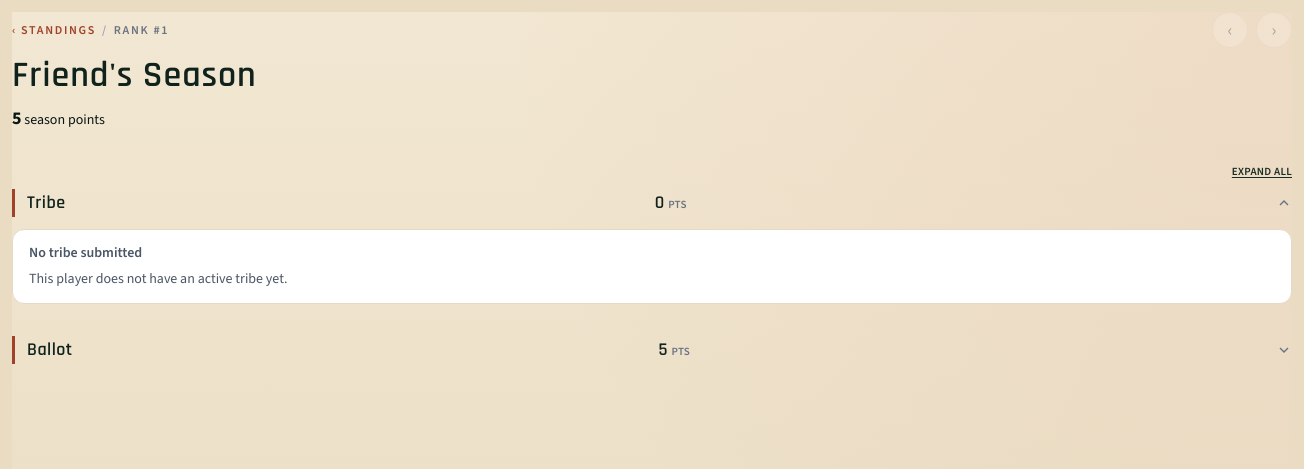
Test case: TeamPage › says vote results are missing instead of drawing every vote as a miss (#823)
The image size is (1304, 469).
Click the button "Expand all" at (1262, 172), box x1=1232 y1=164 x2=1292 y2=180
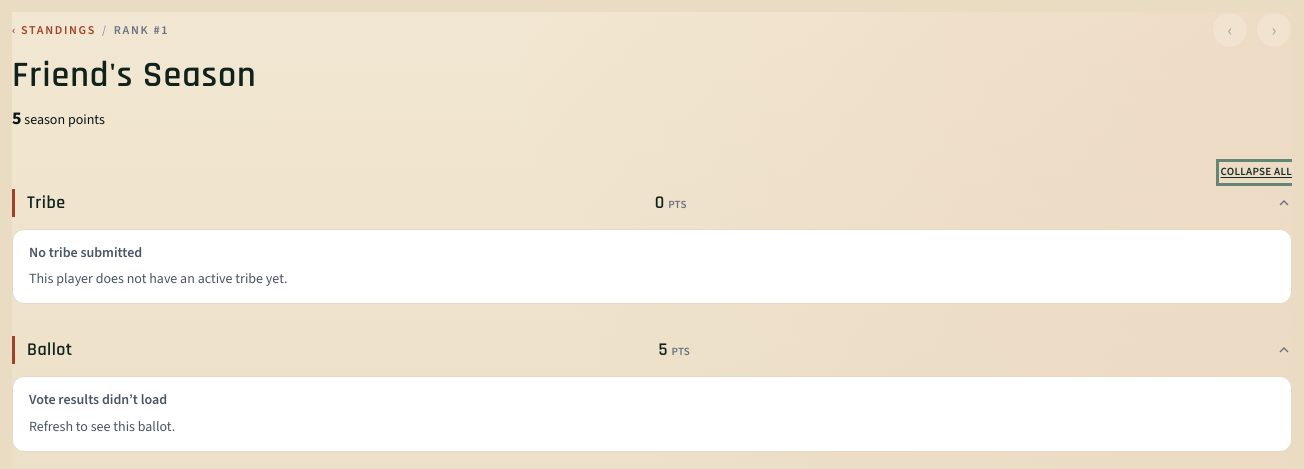
Expected: the button "Ballot 5 pts" is shown, x1=12 y1=336 x2=1292 y2=364
Expected: the text "Vote results didn’t load" is shown, x1=29 y1=390 x2=167 y2=409
